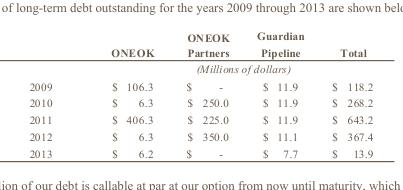table: (28, 28, 372, 159)
table column: (80, 28, 169, 159), (242, 28, 317, 159), (169, 28, 242, 159), (317, 28, 372, 159), (28, 28, 80, 159)
table column header: (28, 28, 372, 77)
table row: (28, 28, 372, 60), (28, 60, 372, 77), (28, 93, 372, 110), (28, 110, 372, 127), (28, 127, 372, 144), (28, 77, 372, 93), (28, 144, 372, 159)
table spanning cell: (80, 60, 372, 77)
